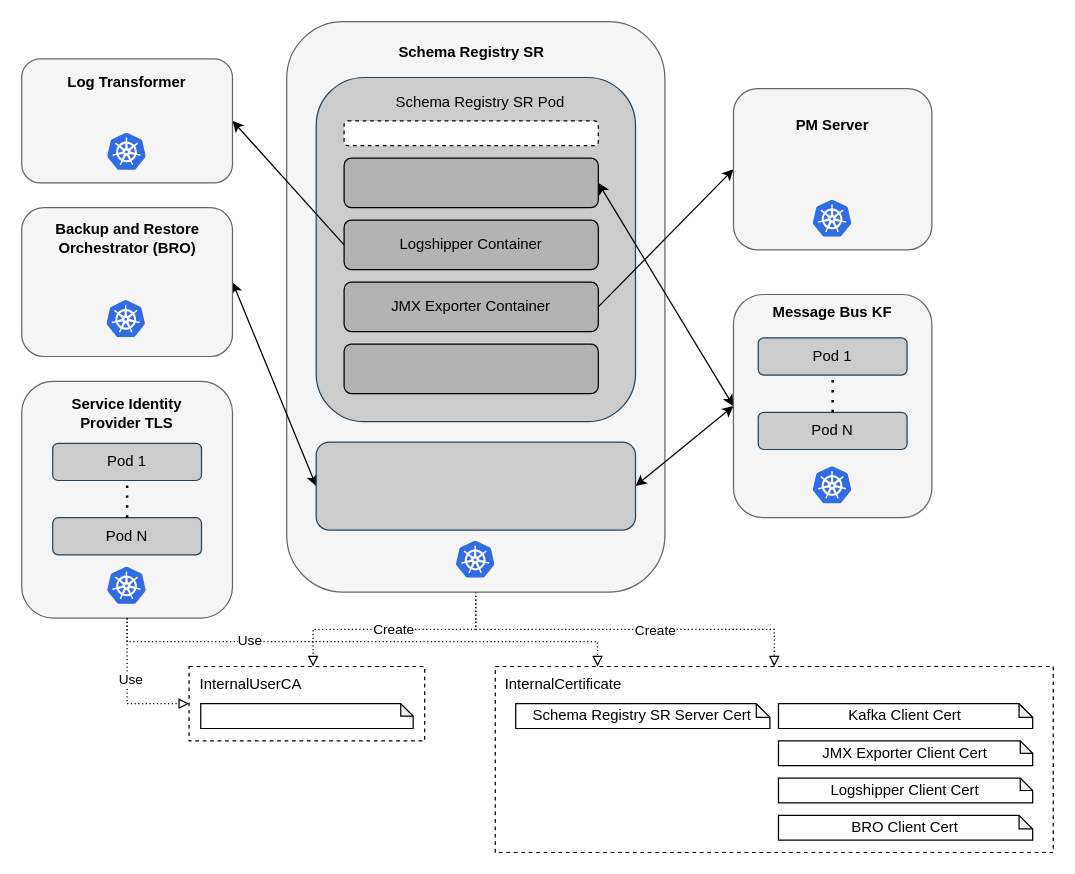
Image size: 1075x874. Some labels were removed from this diagram. The centre of each missing label's shape, as x and y in pixels:
Init Containers: (470,133)
Monitor JKS Container: (470,368)
Schema Registry Client CA: (306,715)
Schema Registry SR BRAgent Pod: (475,485)
Schema Registry SR Container: (470,182)
